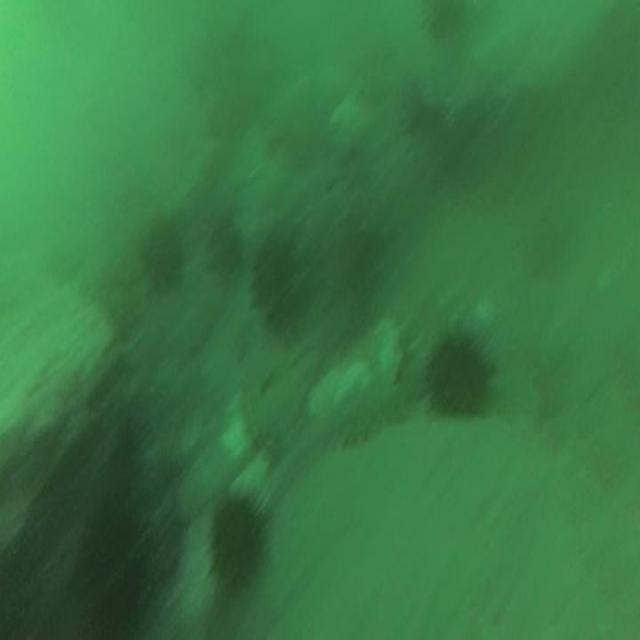echinus: (80, 515, 147, 635), (428, 337, 491, 417), (211, 504, 261, 593), (252, 238, 300, 328), (145, 223, 186, 286)
